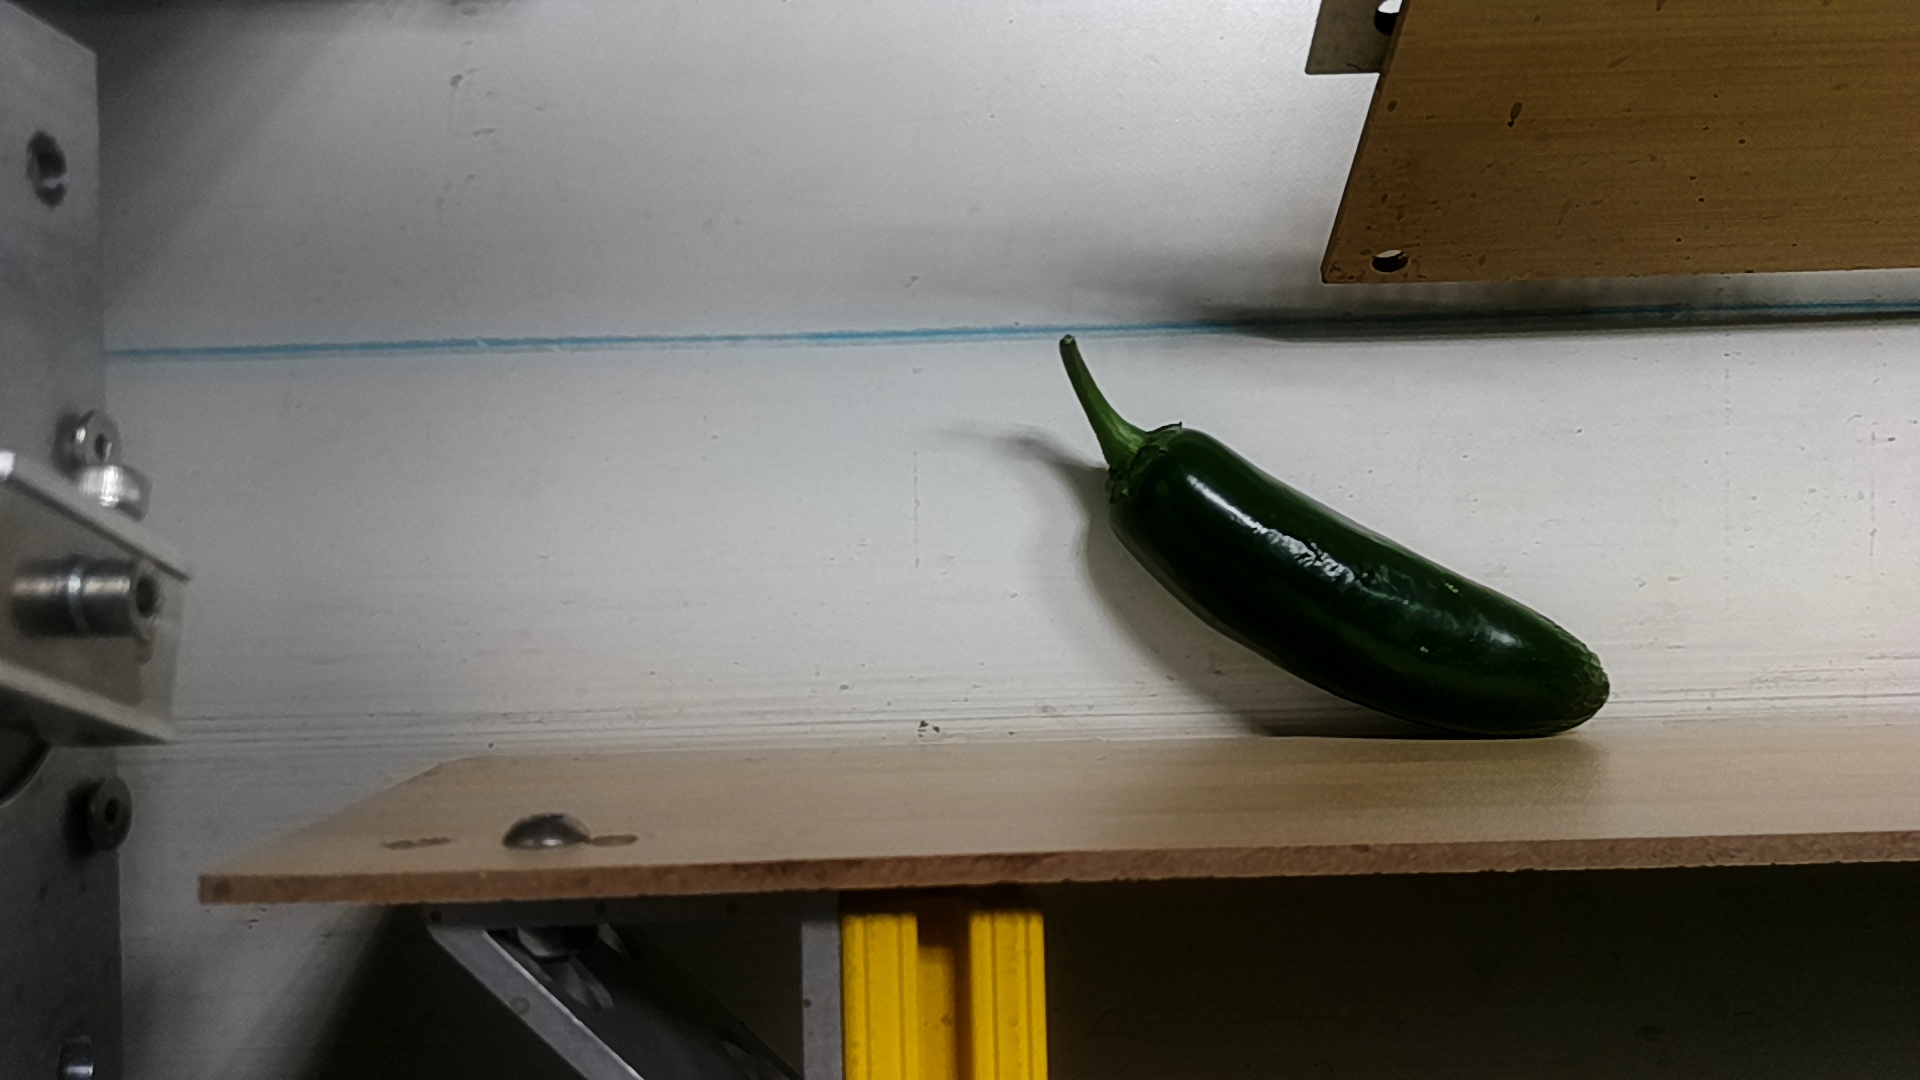Cut Point: (1095, 405, 1216, 545)
